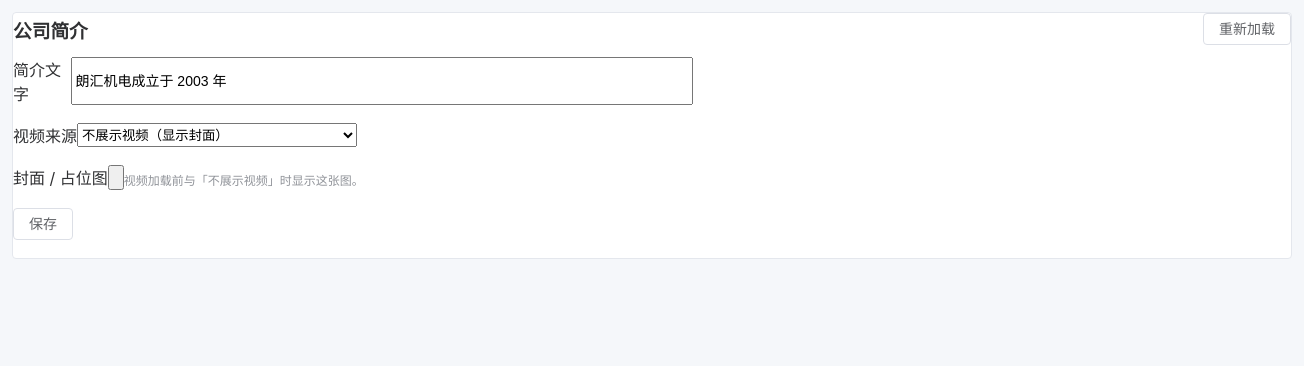
it: content/CompanyProfile › 外部直链档：显示 MP4 地址输入框
This screenshot has width=1304, height=366.
Select "外部 MP4 直链" in the dropdown at (217, 135), box [77,123,357,147]
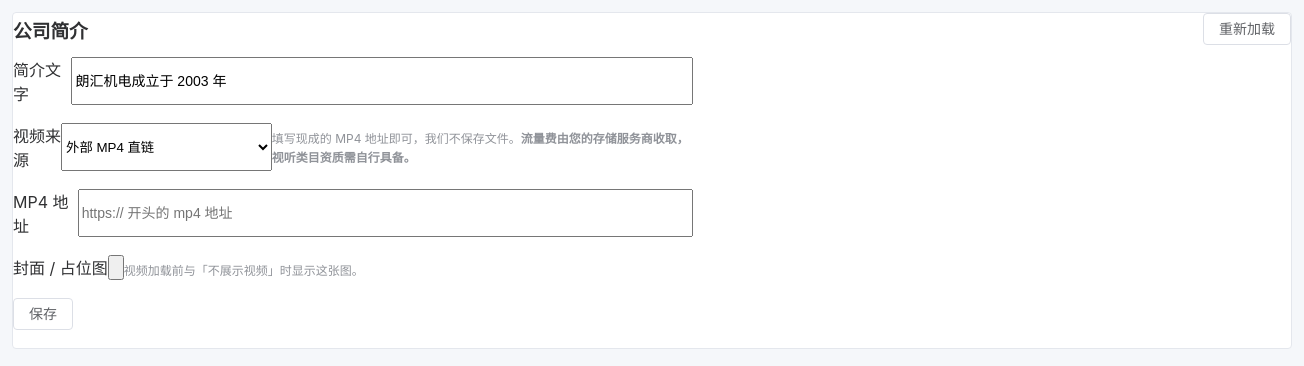
Check: the field with placeholder "https:// 开头的 mp4 地址" is shown, box [78,189,693,237]
